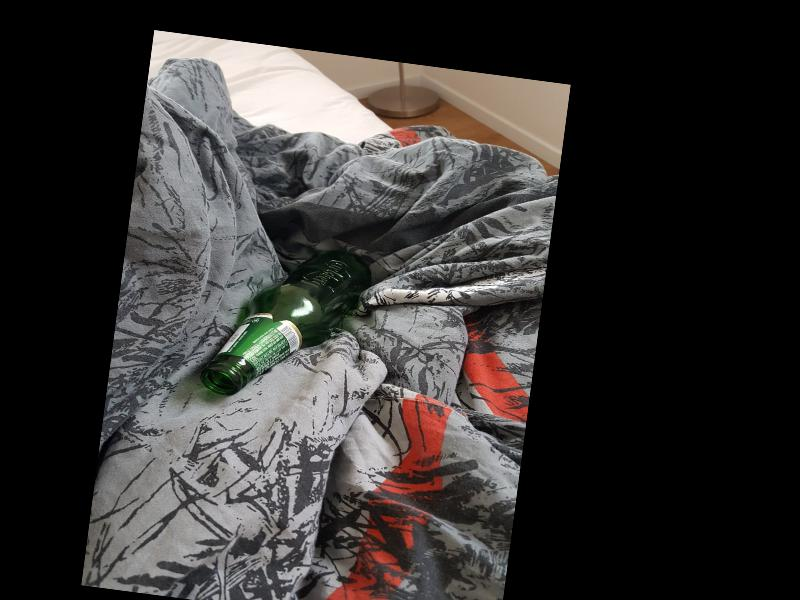Beer: (200, 235, 373, 413)
